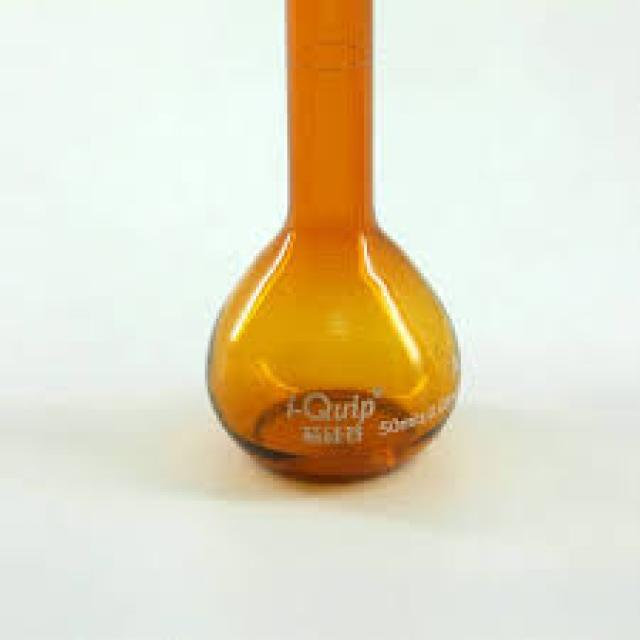glass: (208, 0, 458, 478)
